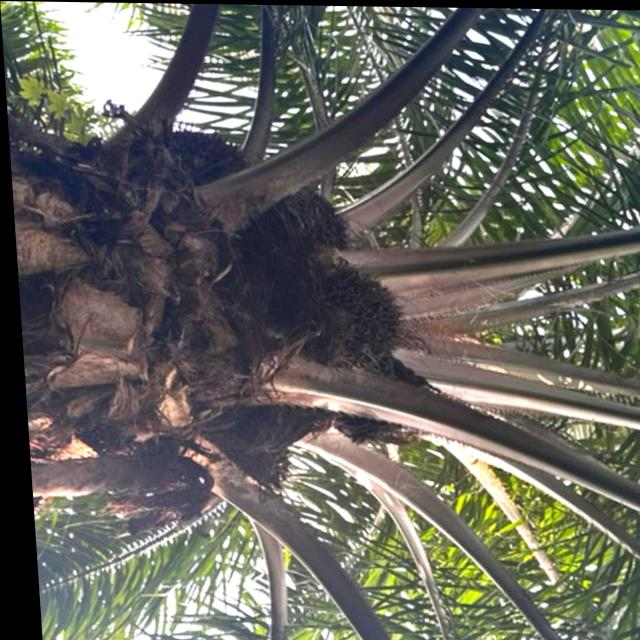unripe: (293, 261, 399, 370), (250, 184, 348, 257), (158, 123, 252, 192)
